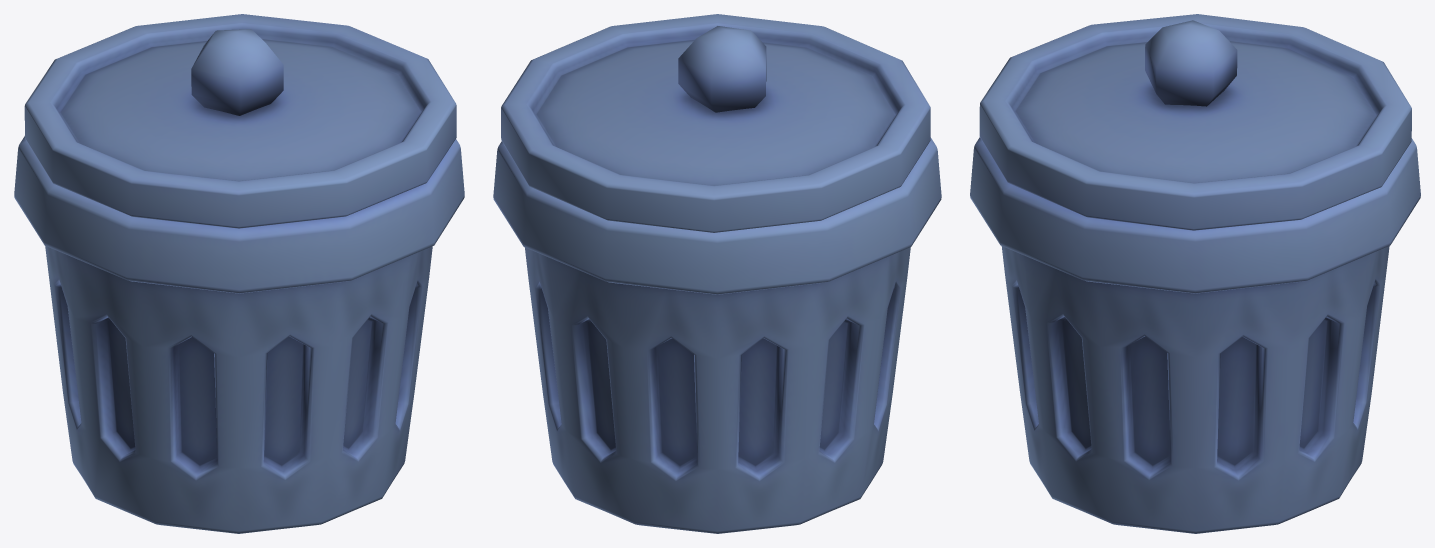
File: TrashCan.fbx
3 renders of one model, left to right at view 1: azimuth 30°, elevation 25°; view 2: azimuth 150°, elevation 25°; view 3: azimuth 270°, elevation 25°, orthographic.
Visible parts, largest first — view 1: TrashCan; view 2: TrashCan; view 3: TrashCan.
Boxes of the visible parts, x1,y1,x2,y2 form: TrashCan: (14, 14, 464, 533); TrashCan: (493, 14, 941, 533); TrashCan: (970, 14, 1420, 533).
Bounding box in the file's own units: 110 × 119 × 110.
